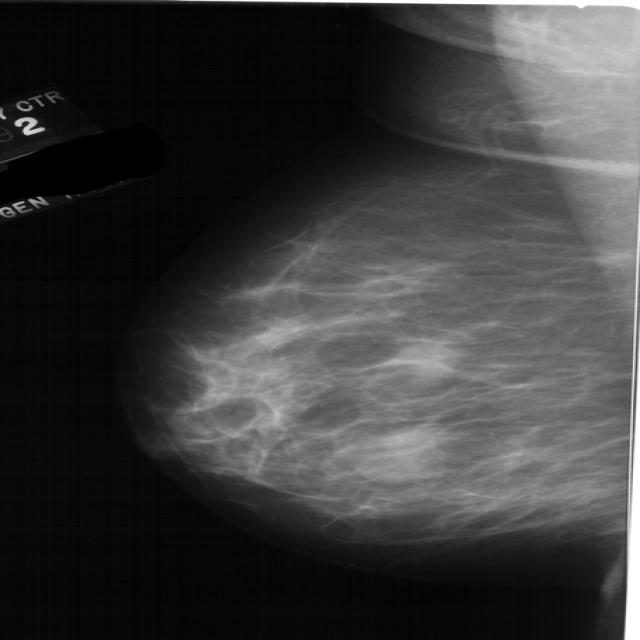tumour: (353, 441, 445, 482)
